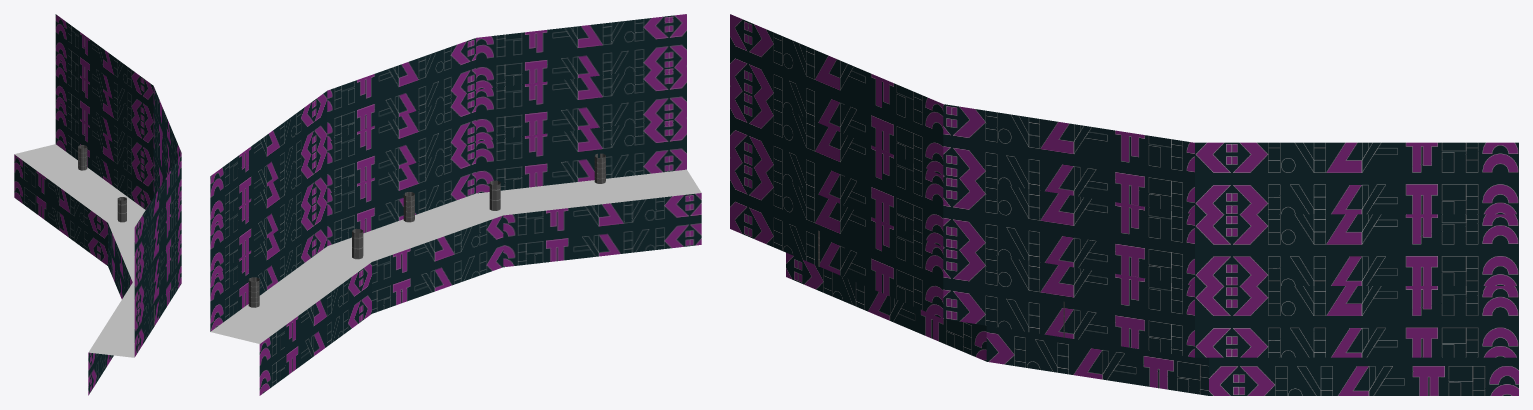
Rendered from Tile18.fbx.
3 renders of one model, left to right at view 1: azimuth 30°, elevation 25°; view 2: azimuth 150°, elevation 25°; view 3: azimuth 270°, elevation 25°, orthographic. The views are drawn at different scales.
Parts seen in each view (by area): view 1: Tile18_WallLeft2, Tile18_WallLeft1, ground2, Tile18_WallLeft, pasted__WallRight1, pCylinder6, pCylinder8; view 2: Tile18_WallLeft2, Tile18_WallLeft1, Tile18_WallLeft, pasted__WallRight1, ground2; view 3: Tile18_WallLeft2, Tile18_WallLeft1, Tile18_WallLeft, pasted__WallRight1.
Part boxes in pixels (x1,y1,x2,y2): Tile18_WallLeft2: (55,14,181,270); Tile18_WallLeft1: (55,58,181,313); ground2: (14,144,145,357); Tile18_WallLeft: (55,101,181,356); pasted__WallRight1: (14,154,132,395); pCylinder6: (117,197,126,222); pCylinder8: (78,145,87,170); Tile18_WallLeft2: (210,14,686,227); Tile18_WallLeft1: (210,66,686,279); Tile18_WallLeft: (210,117,686,331); pasted__WallRight1: (259,193,701,395); ground2: (211,169,701,343); Tile18_WallLeft2: (730,14,1518,214); Tile18_WallLeft1: (730,85,1518,285); Tile18_WallLeft: (730,157,1518,357); pasted__WallRight1: (786,252,1518,395).
Size of what is drawn, in the model's own units: 45.63 by 40 by 99.78.
